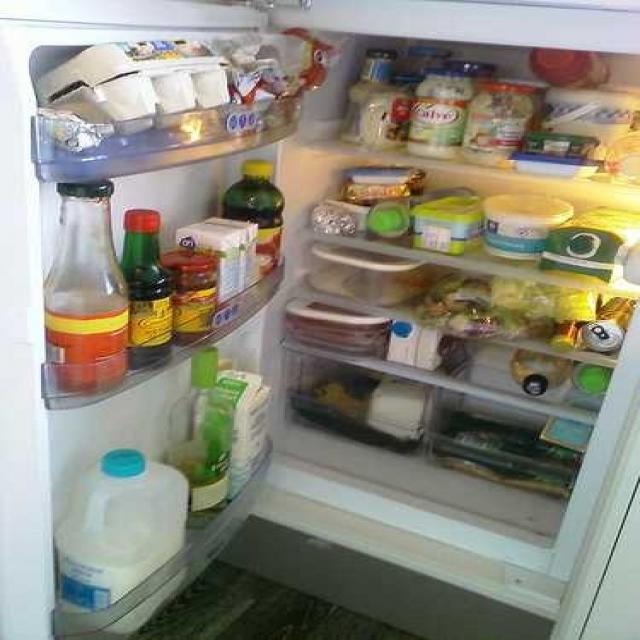refrigerator: (5, 18, 588, 603)
